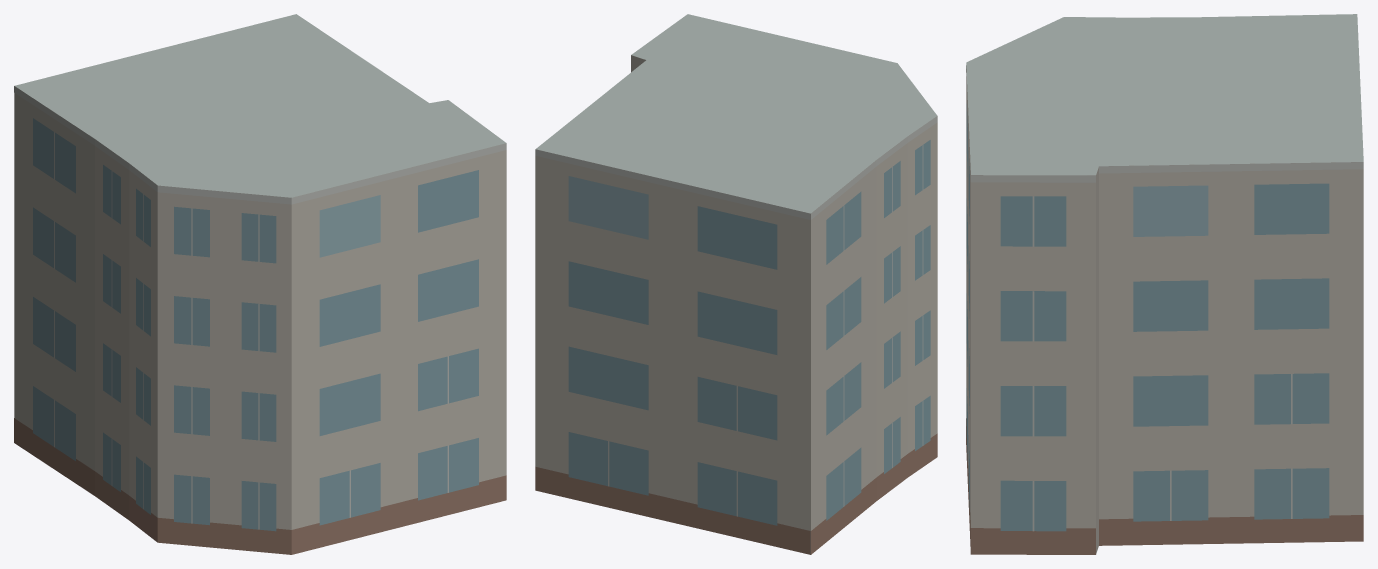
The model's file is survey-upis-32634113.glb.
3 views of the same model, side by side, from view 1: azimuth 30°, elevation 25°; view 2: azimuth 150°, elevation 25°; view 3: azimuth 270°, elevation 25° (orthographic). The views are drawn at different scales.
Visible parts, largest first — view 1: survey-upis-32634113.tmp; view 2: survey-upis-32634113.tmp; view 3: survey-upis-32634113.tmp.
Part boxes in pixels (<box>): survey-upis-32634113.tmp: <box>14,14,506,554</box>; survey-upis-32634113.tmp: <box>535,14,937,554</box>; survey-upis-32634113.tmp: <box>966,14,1363,554</box>.
Bounding box in the file's own units: 11.68 × 12.8 × 12.16.
